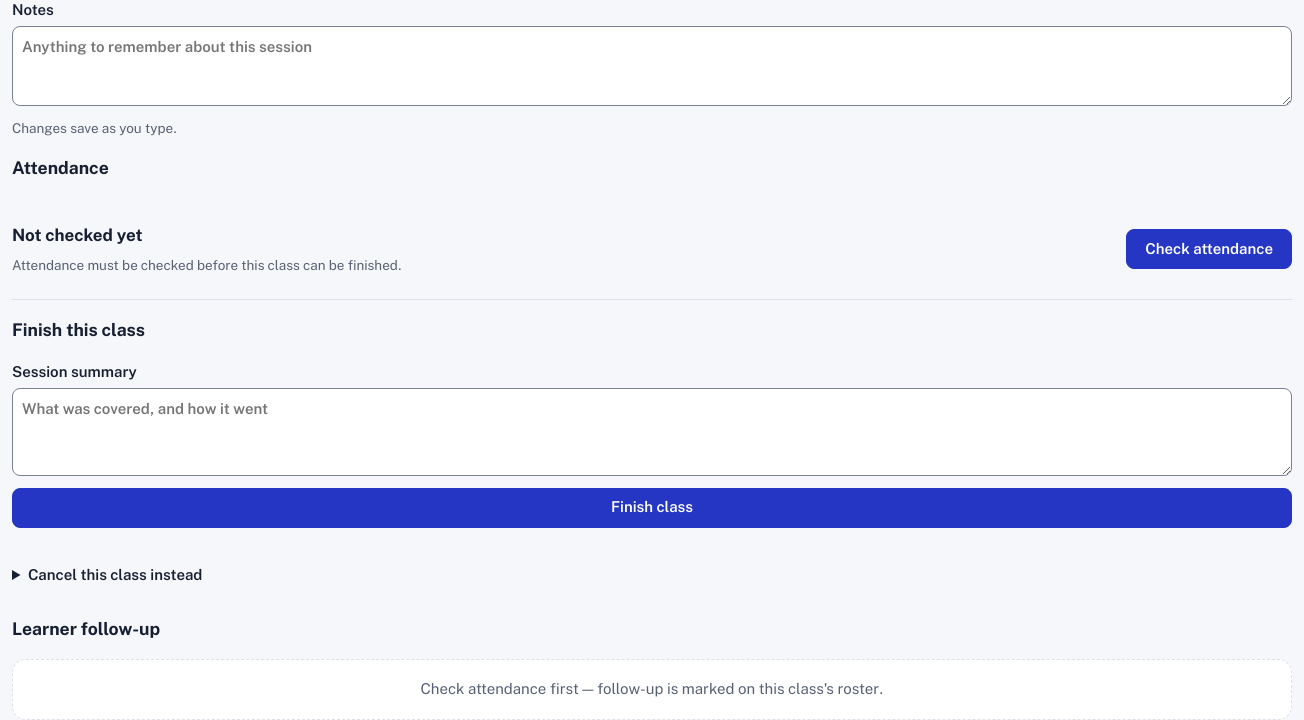
Scenario: ClassroomModeScreen › refuses to cancel without a reason and records one when given
(page scrolled)
Click the heading "Cancel this class instead" at x=115, y=574, box [28,566,202,582]
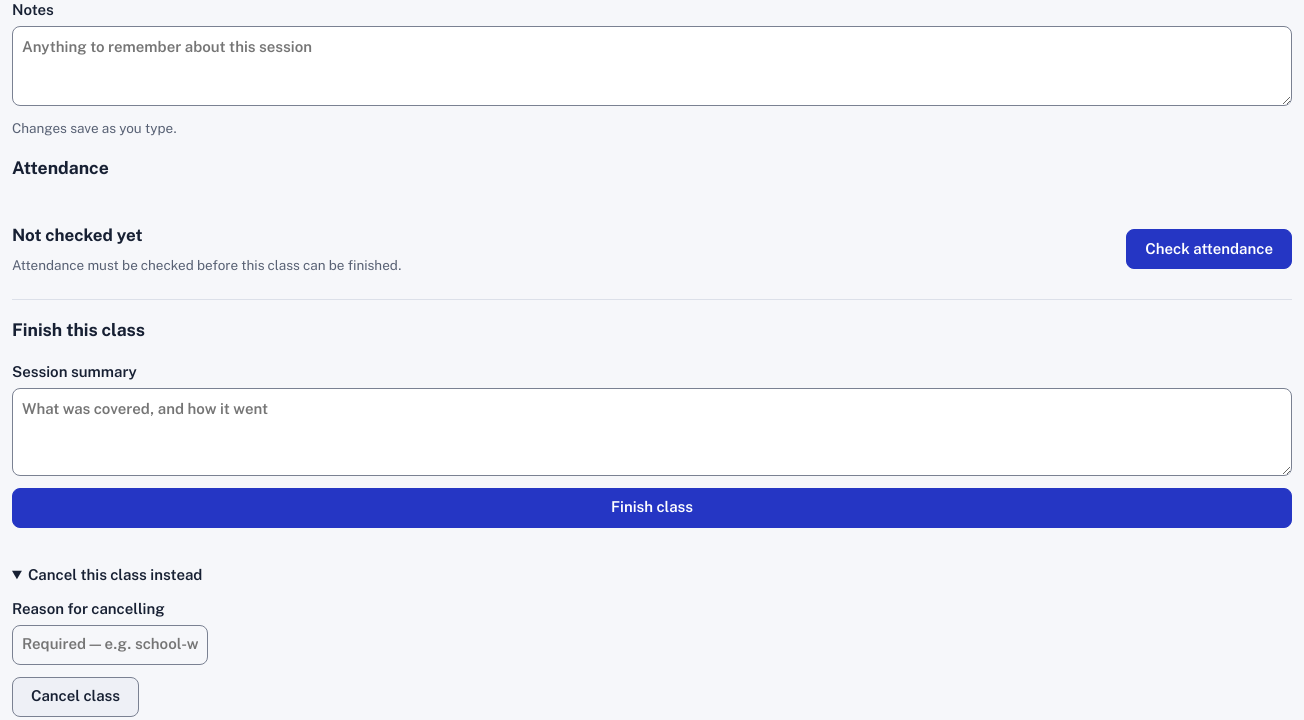
Click the button "Cancel class" at x=76, y=697, box [12,677,139,717]
(page scrolled)
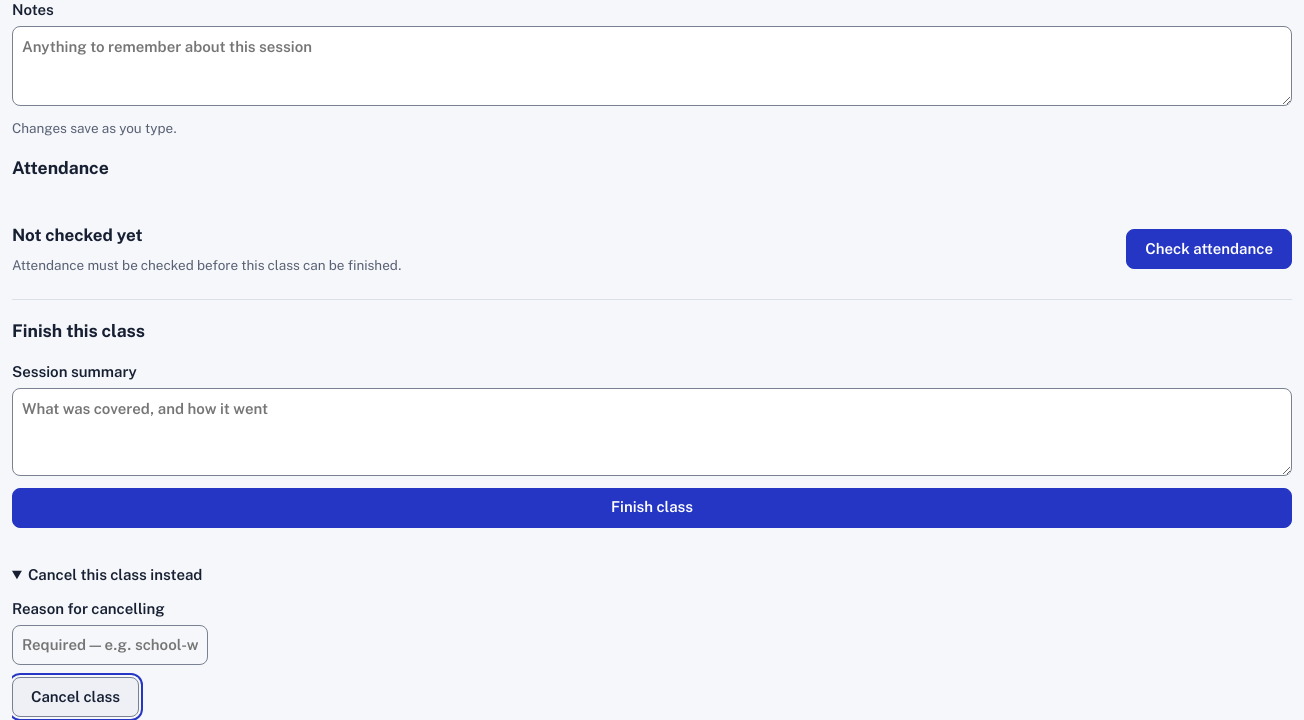
Type "School-wide suspension" into the field labelled "Reason for cancelling" at x=110, y=645, box [12,625,208,665]
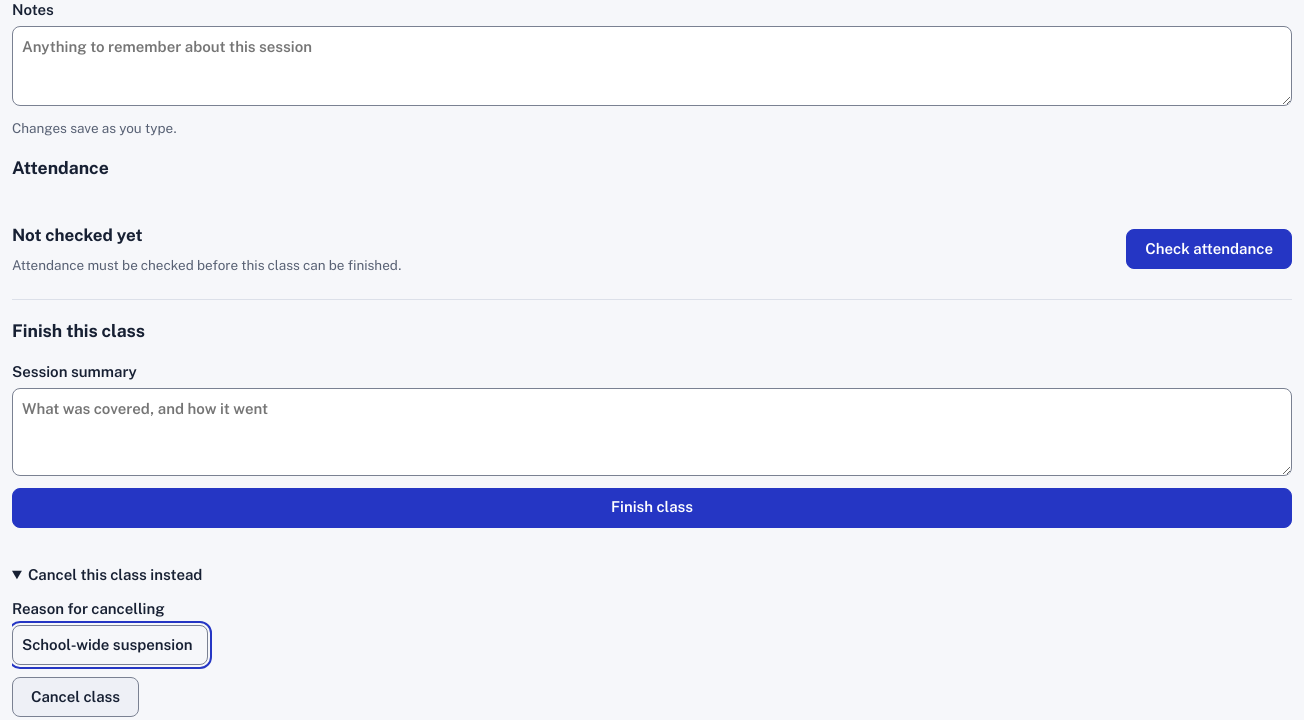
Click the button "Cancel class" at x=76, y=697, box [12,677,139,717]
(page scrolled)
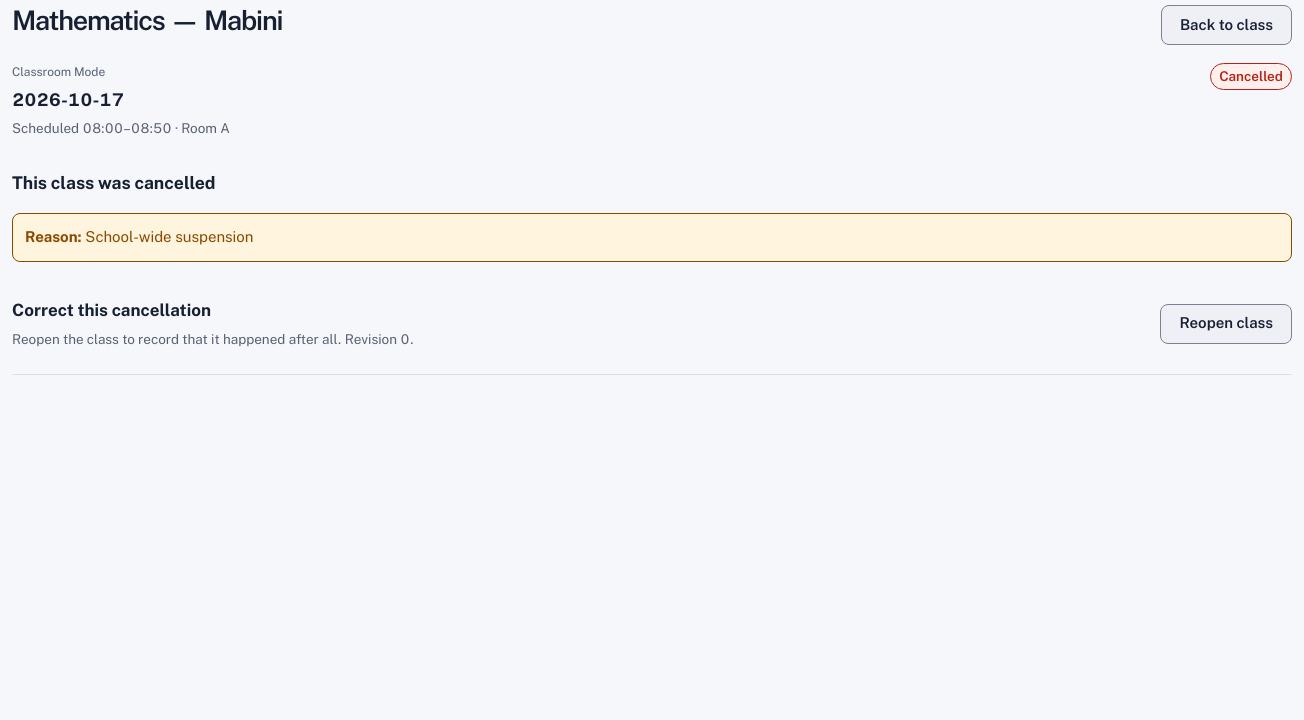
Expected: the heading "This class was cancelled" is shown, [12,172,215,192]
Expected: the text "Reason: School-wide suspension" is shown, [25,228,254,245]
